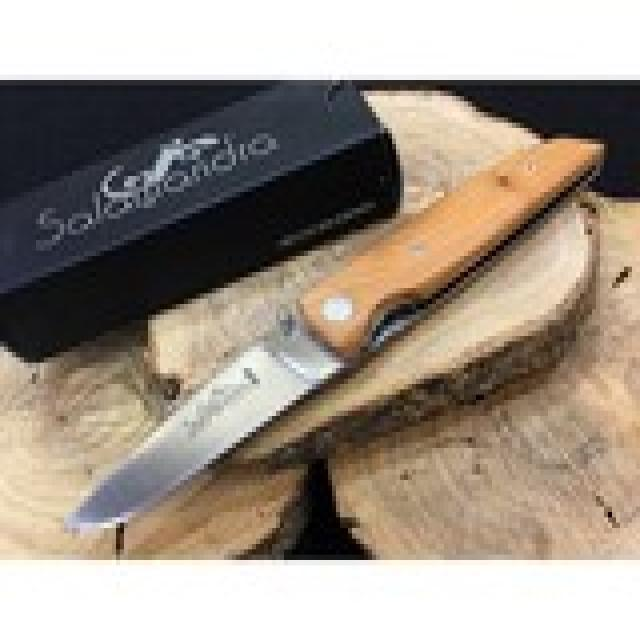Knife: (55, 135, 603, 540)
